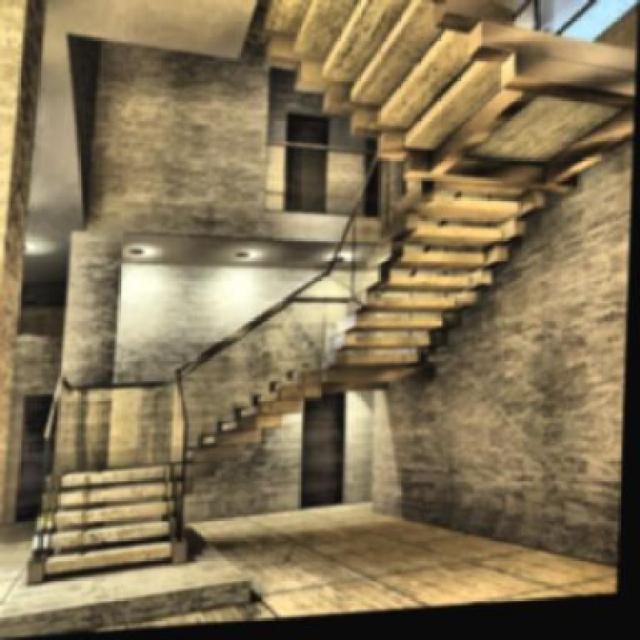stair: (38, 455, 191, 571)
